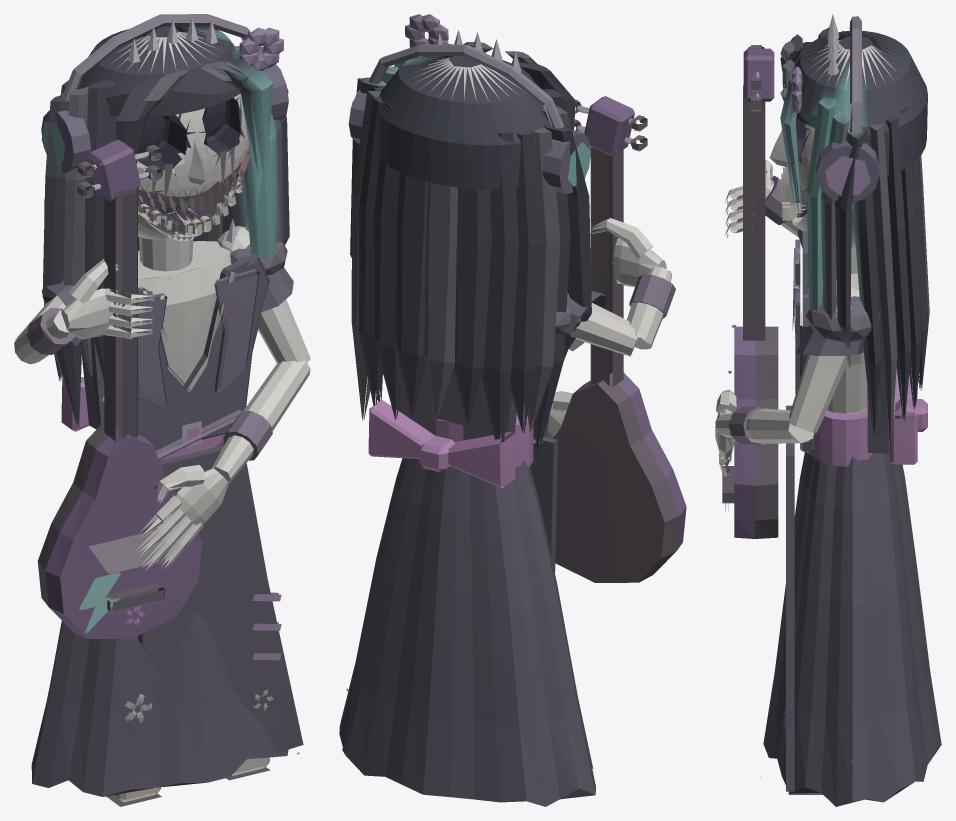
The model's file is MimicPunk.glb.
3 views of the same model, side by side, from view 1: azimuth 30°, elevation 25°; view 2: azimuth 150°, elevation 25°; view 3: azimuth 270°, elevation 25° (orthographic). The views are drawn at different scales.
Visible parts, largest first — view 1: Body, Head, ArmL, ArmR, LegR, LegL; view 2: Body, Head, ArmR, ArmL; view 3: Body, Head, ArmL, ArmR.
Part boxes in pixels (x1=…): Body: x1=31, y1=139, x2=303, y2=796; Head: x1=41, y1=14, x2=289, y2=427; ArmL: x1=136, y1=219, x2=310, y2=570; ArmR: x1=14, y1=259, x2=153, y2=364; LegR: x1=106, y1=787, x2=161, y2=806; LegL: x1=226, y1=757, x2=270, y2=780; Body: x1=339, y1=96, x2=686, y2=806; Head: x1=348, y1=14, x2=591, y2=456; ArmR: x1=555, y1=218, x2=675, y2=356; ArmL: x1=546, y1=391, x2=572, y2=438; Body: x1=722, y1=45, x2=941, y2=806; Head: x1=769, y1=14, x2=929, y2=452; ArmL: x1=715, y1=284, x2=880, y2=477; ArmR: x1=725, y1=160, x2=802, y2=248.
Size of the model in its own units: 3.08 by 7.43 by 2.07.
